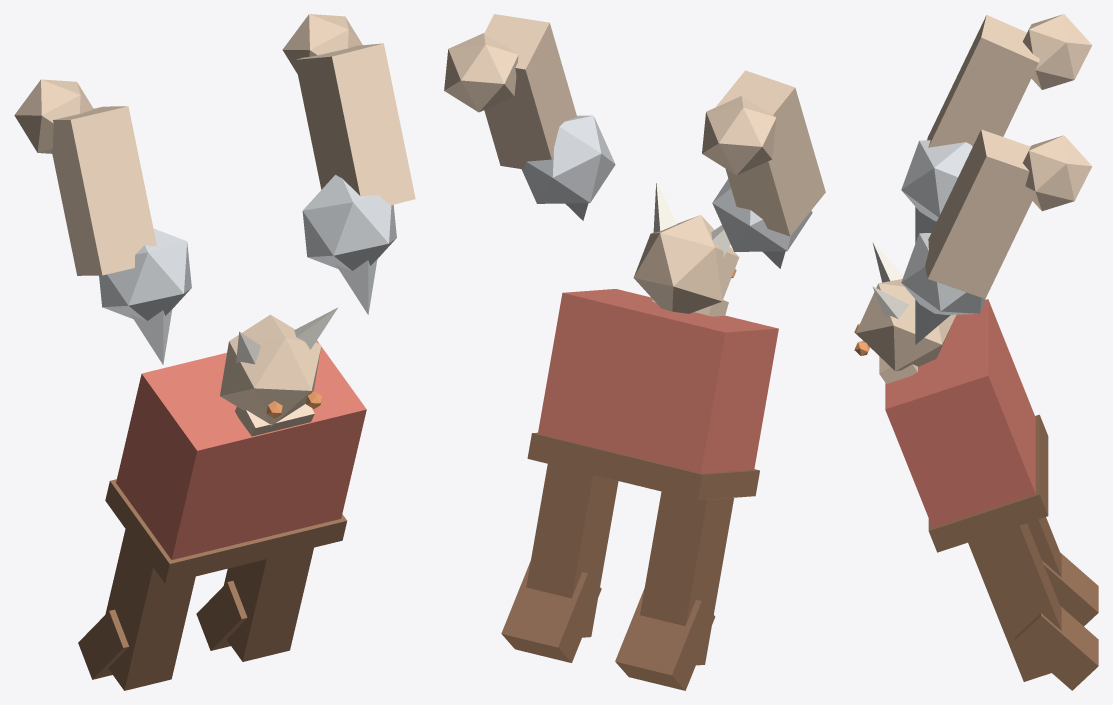
Rendered from npcpose_brute_attack_07.glb.
The picture shows the model from 3 angles, left to right: view 1: azimuth 30°, elevation 25°; view 2: azimuth 150°, elevation 25°; view 3: azimuth 270°, elevation 25°; orthographic projection. The views are drawn at different scales.
Visible parts, largest first — view 1: npcpose; view 2: npcpose; view 3: npcpose.
Boxes of the visible parts, left/top/right/bottom form: npcpose: left=14, top=14, right=415, bottom=690; npcpose: left=444, top=14, right=825, bottom=690; npcpose: left=854, top=14, right=1098, bottom=690.
Size of the model in its own units: 1.43 by 2.51 by 0.9736.
